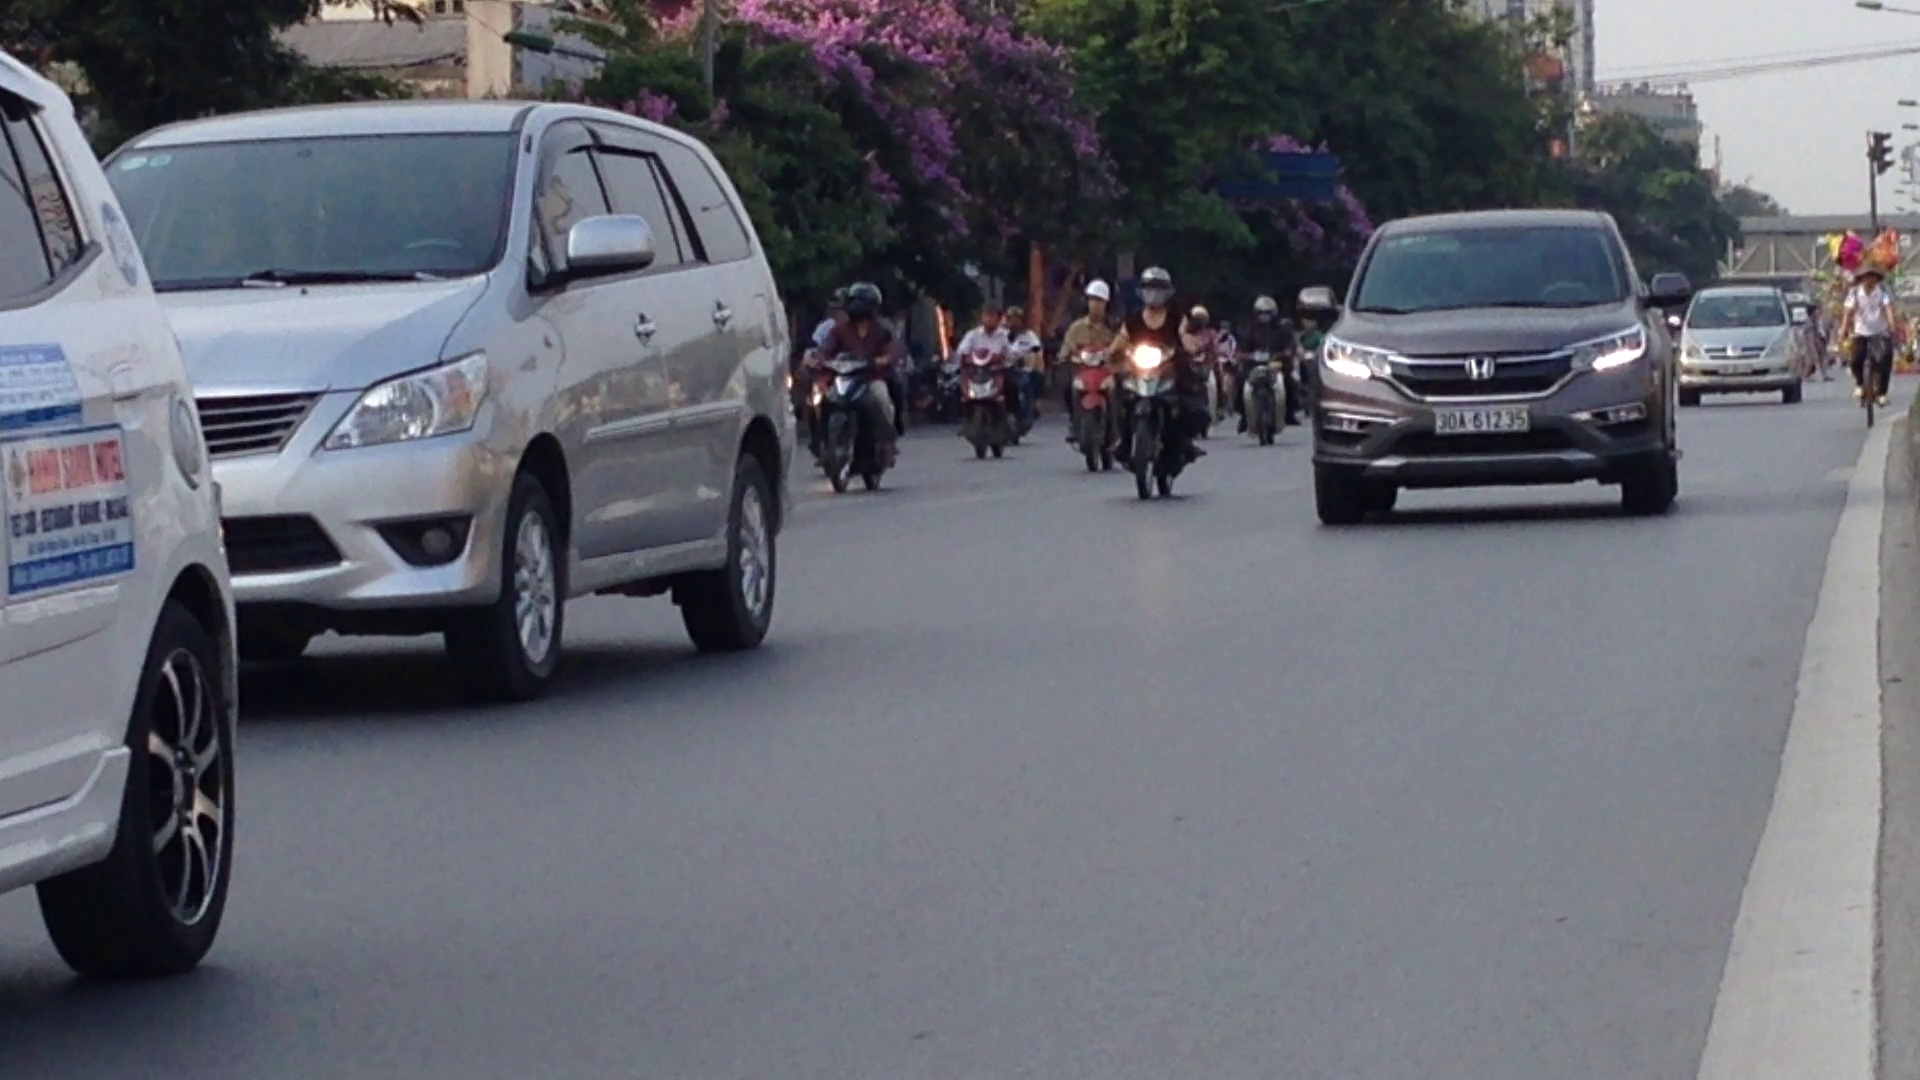vehicle-plate: (1431, 401, 1533, 435)
